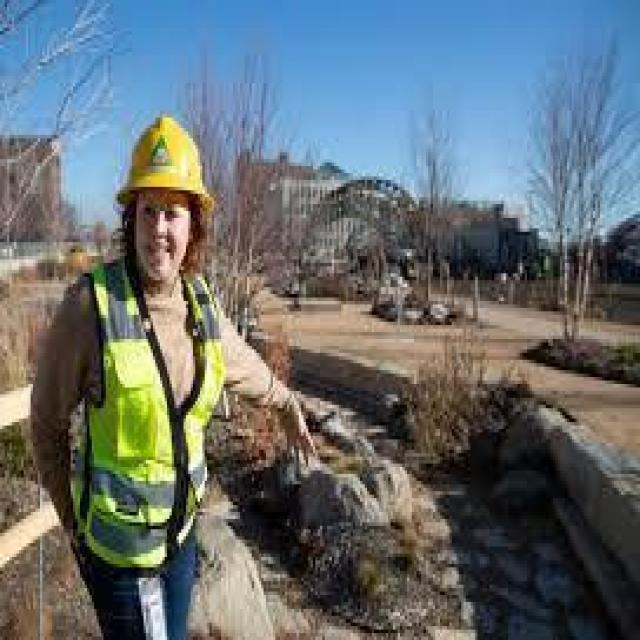hat: (116, 114, 217, 211)
